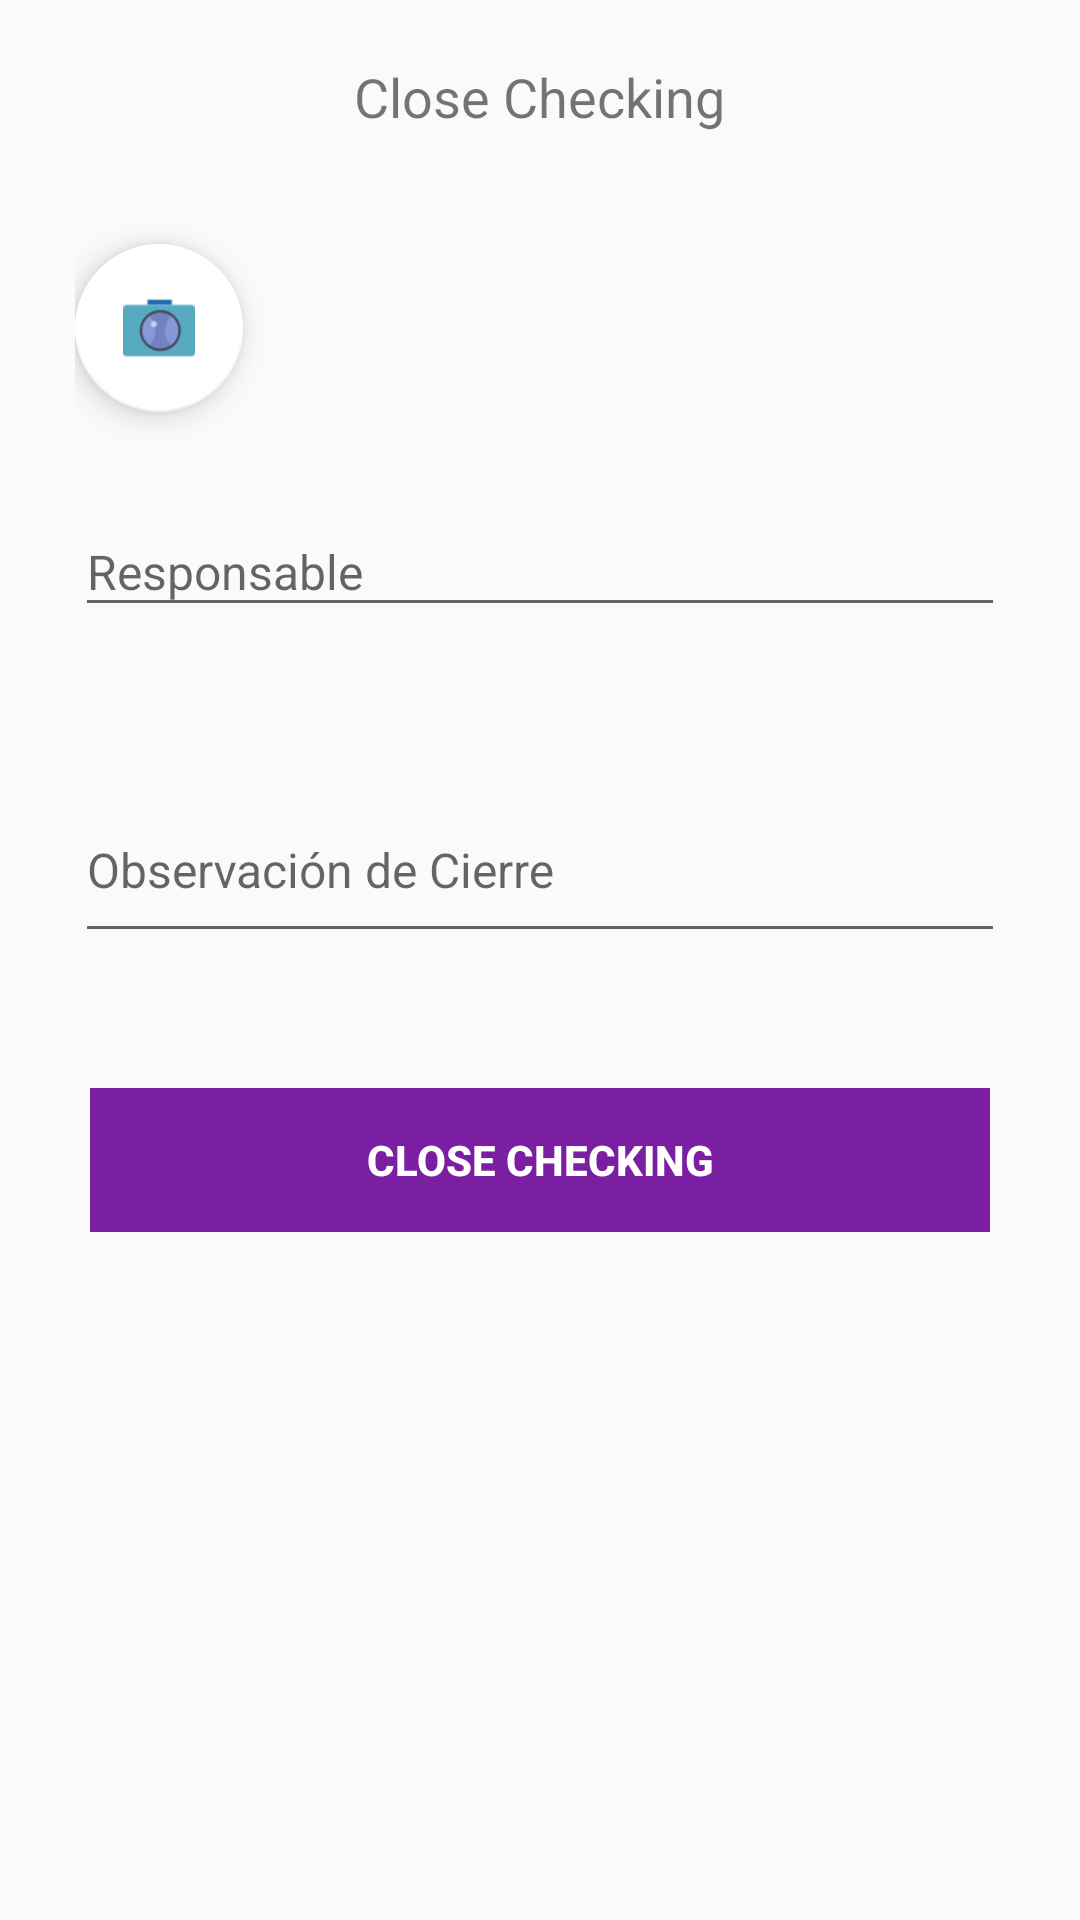

Screen size 1080px×1920px. Icon name, then its box in pixels as BBox(x1, y1, x2, y2):
camera: BBox(75, 244, 243, 412)
